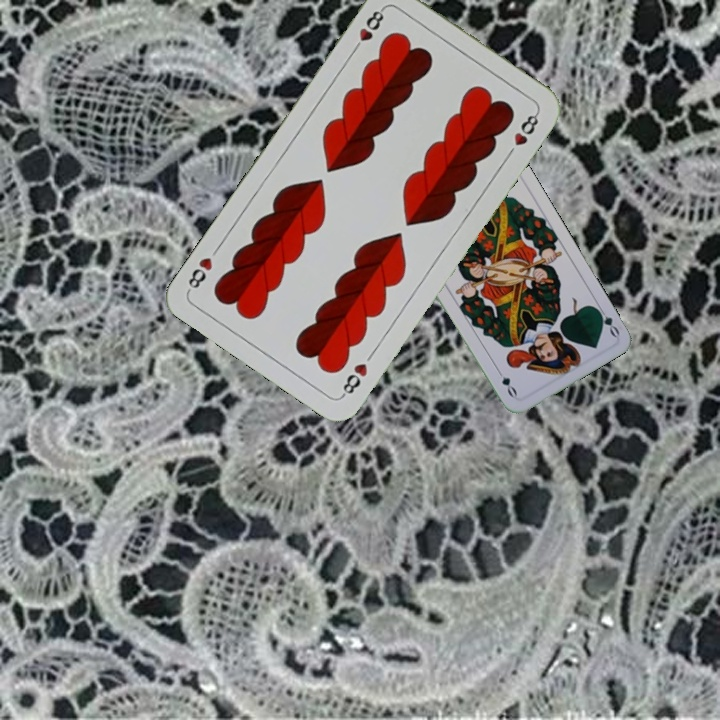GO: (591, 302, 622, 339)
H8: (348, 4, 388, 56), (337, 359, 370, 400)
